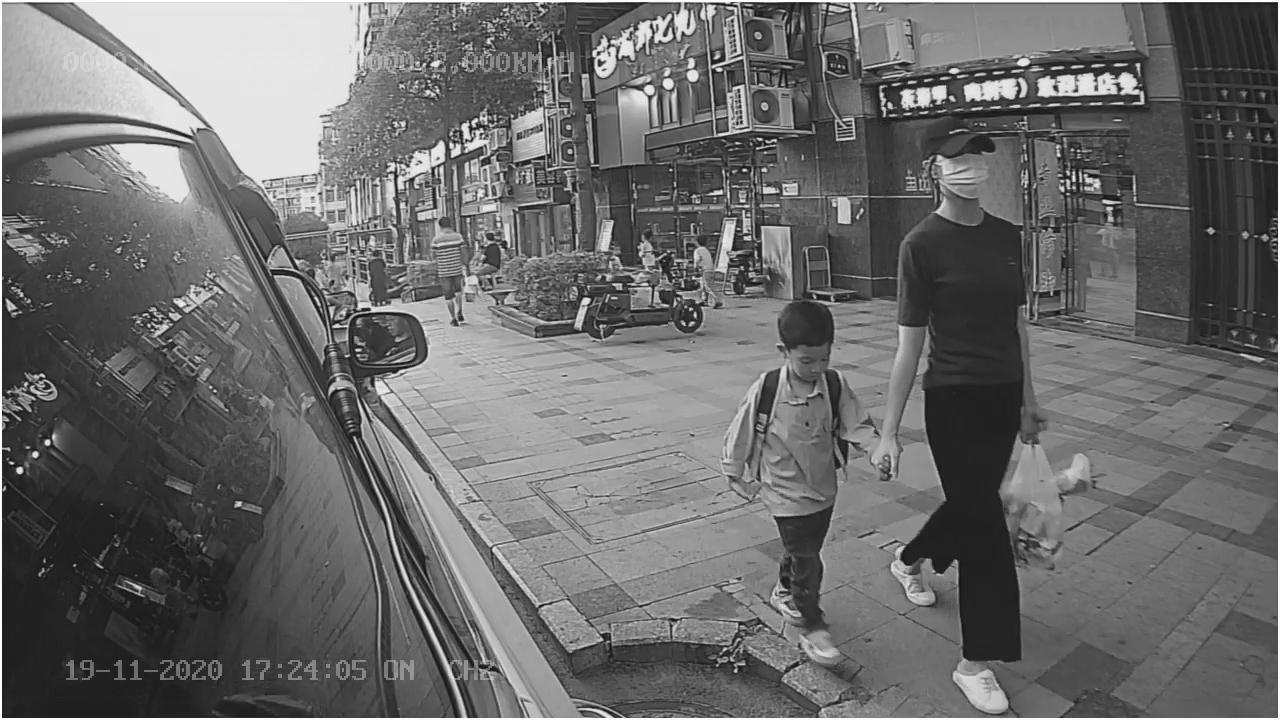person: (875, 121, 1050, 715), (709, 296, 883, 667), (425, 210, 470, 330)
